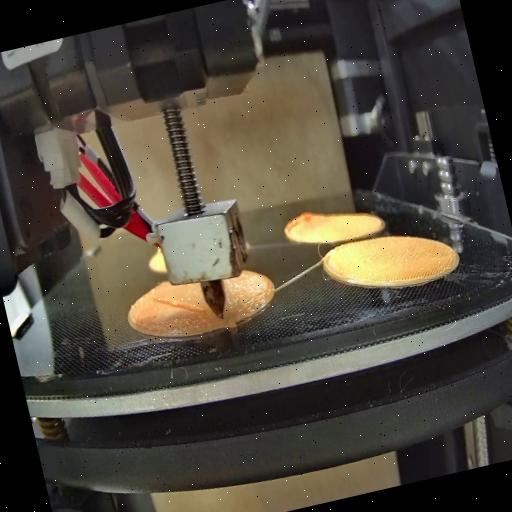over_extrusion: (146, 284, 210, 327), (278, 204, 326, 243)
